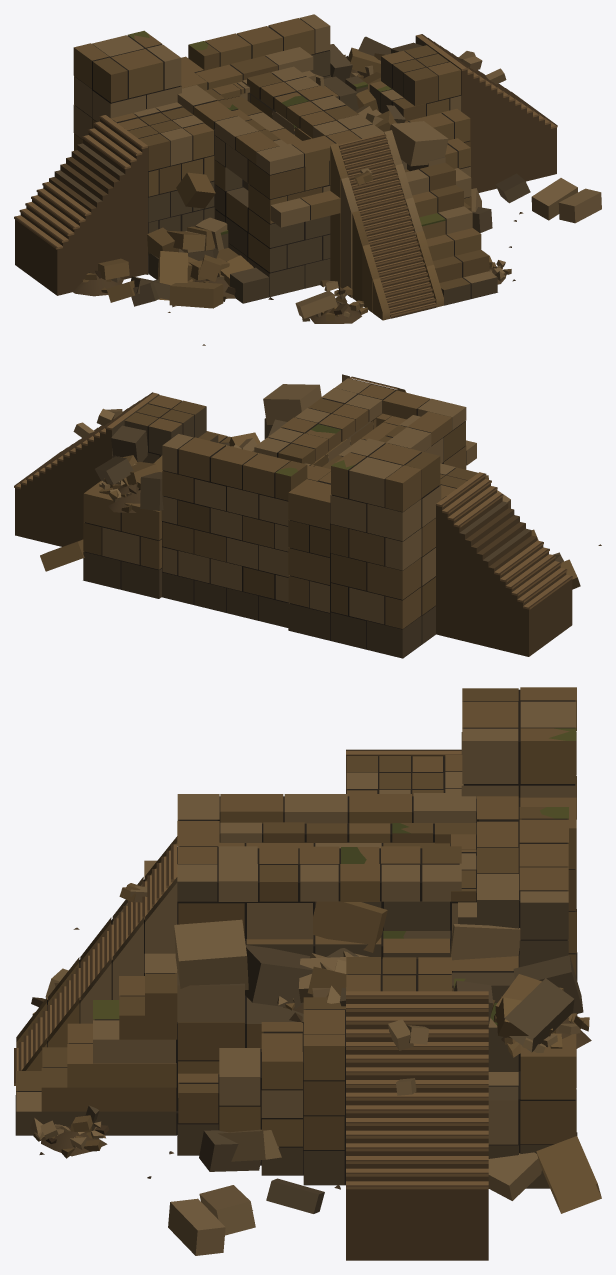
Rendered from ZonRuin15a.glb.
3 views of the same model, one above another, from view 1: azimuth 30°, elevation 25°; view 2: azimuth 150°, elevation 25°; view 3: azimuth 270°, elevation 25° (orthographic). The views are drawn at different scales.
Visible parts, largest first — view 1: st_rubble; view 2: st_rubble; view 3: st_rubble.
Part boxes in pixels (x1,y1,x2,y2): st_rubble: [14, 14, 601, 345]; st_rubble: [14, 374, 601, 658]; st_rubble: [14, 687, 601, 1260].
Size of the model in its own units: 23.18 by 7.86 by 15.24.
